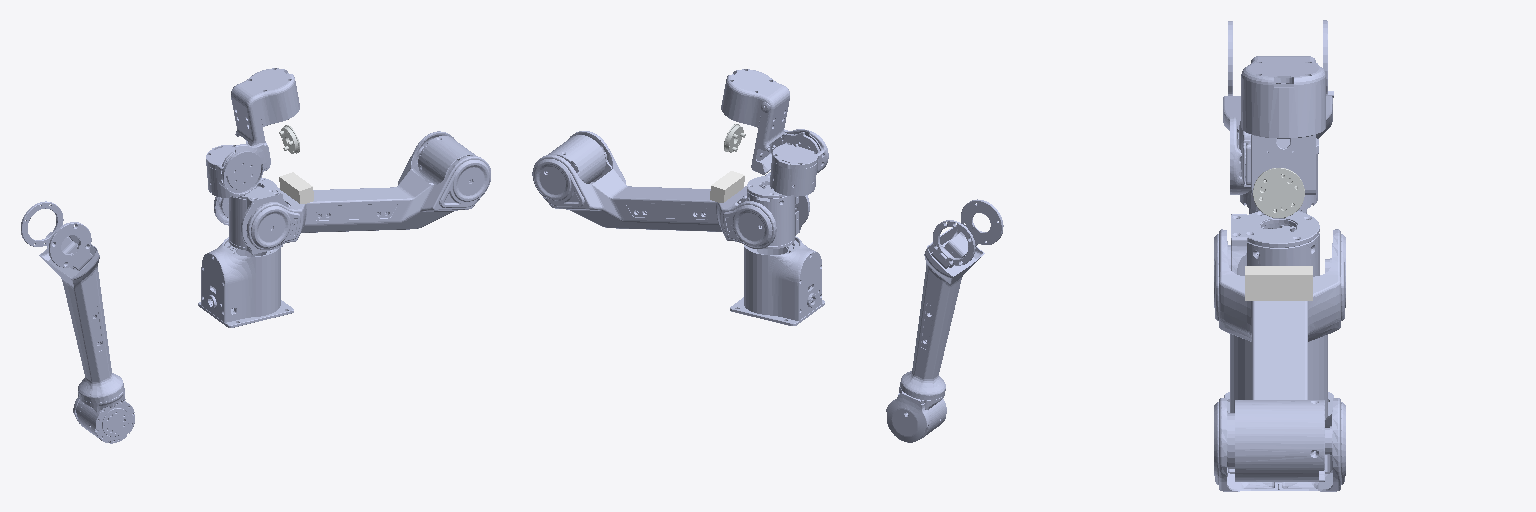
robot.urdf — piper:
<?xml version="1.0" encoding="utf-8"?>
<!-- This URDF was automatically created by SolidWorks to URDF Exporter! Originally created by Stephen Brawner (brawner@gmail.com) 
     Commit Version: 1.6.0-4-g7f85cfe  Build Version: 1.6.7995.38578
     For more information, please see http://wiki.ros.org/sw_urdf_exporter -->
<robot
  name="piper">
  <link
    name="base_link">
    <inertial>
      <origin xyz="-0.00473641164191482 2.56829134630247E-05 0.041451518036016" rpy="0 0 0" />
      <mass value="1.02" />
      <inertia ixx="0.00267433" ixy="-0.00000073" ixz="-0.00017389" iyy="0.00282612" iyz="0.0000004" izz="0.00089624" />
    </inertial>
    <visual>
      <origin
        xyz="0 0 0"
        rpy="0 0 0" />
      <geometry>
        <mesh
          filename="package://piper_description/meshes/base_link.STL" />
      </geometry>
      <material
        name="">
        <color
          rgba="0.792156862745098 0.819607843137255 0.933333333333333 1" />
      </material>
    </visual>
    <collision>
      <origin
        xyz="0 0 0"
        rpy="0 0 0" />
      <geometry>
        <mesh
          filename="package://piper_description/meshes/base_link.STL" />
      </geometry>
    </collision>
  </link>
  <link
    name="link1">
    <inertial>
      <origin xyz="0.00032 -0.00041 -0.00348" rpy="0 0 0" />
      <mass value="0.71" />
      <inertia ixx="0.00050027" ixy="0.00000078" ixz="0.00000626" iyy="0.00040879" iyz="0.00000462" izz="0.00045802" />
    </inertial>
    <visual>
      <origin
        xyz="0 0 0"
        rpy="0 0 0" />
      <geometry>
        <mesh
          filename="package://piper_description/meshes/link1.STL" />
      </geometry>
      <material
        name="">
        <color
          rgba="0.792156862745098 0.819607843137255 0.933333333333333 1" />
      </material>
    </visual>
    <collision>
      <origin
        xyz="0 0 0"
        rpy="0 0 0" />
      <geometry>
        <mesh
          filename="package://piper_description/meshes/link1.STL" />
      </geometry>
    </collision>
  </link>
  <joint
    name="joint1"
    type="revolute">
    <origin
      xyz="0 0 0.123"
      rpy="0 0 0" />
    <parent
      link="base_link" />
    <child
      link="link1" />
    <axis
      xyz="0 0 1" />
    <limit
      lower="-2.618"
      upper="2.618"
      effort="100"
      velocity="5" />
  </joint>
  <link
    name="link2">
    <inertial>
      <origin xyz="0.21852 -0.00861 0.00126" rpy="0 0 0" />
      <mass value="1.16" />
      <inertia ixx="0.00111915" ixy="0.00182916" ixz="0.00019233" iyy="0.06763251" iyz="0.00000767" izz="0.067559" />
    </inertial>
    <visual>
      <origin
        xyz="0 0 0"
        rpy="0 0 0" />
      <geometry>
        <mesh
          filename="package://piper_description/meshes/link2.STL" />
      </geometry>
      <material
        name="">
        <color
          rgba="0.792156862745098 0.819607843137255 0.933333333333333 1" />
      </material>
    </visual>
    <collision>
      <origin
        xyz="0 0 0"
        rpy="0 0 0" />
      <geometry>
        <mesh
          filename="package://piper_description/meshes/link2.STL" />
      </geometry>
    </collision>
  </link>
  <joint
    name="joint2"
    type="revolute">
    <origin
      xyz="0 0 0"
      rpy="1.5708 -0.1359 -3.1416" />
      <!-- rpy="1.5708 -0.10095-0.03490659 -3.1416" /> -->
    <parent
      link="link1" />
    <child
      link="link2" />
    <axis
      xyz="0 0 1" />
    <limit
      lower="0"
      upper="3.14"
      effort="100"
      velocity="5" />
  </joint>
  <link
    name="link3">
    <inertial>
      <origin xyz="-0.01999 -0.14808 -0.00053" rpy="0 0 0" />
      <mass value="0.5" />
      <inertia ixx="0.01347608" ixy="0.00161034" ixz="0.00000066" iyy="0.00046377" iyz="0.00000162" izz="0.01363321" />
    </inertial>
    <visual>
      <origin
        xyz="0 0 0"
        rpy="0 0 0" />
      <geometry>
        <mesh
          filename="package://piper_description/meshes/link3.STL" />
      </geometry>
      <material
        name="">
        <color
          rgba="0.792156862745098 0.819607843137255 0.933333333333333 1" />
      </material>
    </visual>
    <collision>
      <origin
        xyz="0 0 0"
        rpy="0 0 0" />
      <geometry>
        <mesh
          filename="package://piper_description/meshes/link3.STL" />
      </geometry>
    </collision>
  </link>
  <joint
    name="joint3"
    type="revolute">
    <origin
      xyz="0.28503 0 0"
      rpy="0 0 -1.7939" />
      <!-- rpy="0 0 -1.759-0.03490659" /> -->
    <parent
      link="link2" />
    <child
      link="link3" />
    <axis
      xyz="0 0 1" />
    <limit
      lower="-2.967"
      upper="0"
      effort="100"
      velocity="5" />
  </joint>
  <link
    name="link4">
    <inertial>
      <origin xyz="0.00013 -0.00076 -0.00394" rpy="0 0 0" />
      <mass value="0.38" />
      <inertia ixx="0.00017844" ixy="0.00000062" ixz="0.00000067" iyy="0.00018914" iyz="0.00000408" izz="0.00014613" />
    </inertial>
    <visual>
      <origin
        xyz="0 0 0"
        rpy="0 0 0" />
      <geometry>
        <mesh
          filename="package://piper_description/meshes/link4.STL" />
      </geometry>
      <material
        name="">
        <color
          rgba="0.792156862745098 0.819607843137255 0.933333333333333 1" />
      </material>
    </visual>
    <collision>
      <origin
        xyz="0 0 0"
        rpy="0 0 0" />
      <geometry>
        <mesh
          filename="package://piper_description/meshes/link4.STL" />
      </geometry>
    </collision>
  </link>
  <joint
    name="joint4"
    type="revolute">
    <origin
      xyz="-0.021984 -0.25075 0"
      rpy="1.5708 0 0" />
    <parent
      link="link3" />
    <child
      link="link4" />
    <axis
      xyz="0 0 1" />
    <limit
      lower="-1.745"
      upper="1.745"
      effort="100"
      velocity="5" />
  </joint>
  <link
    name="link5">
    <inertial>
      <origin xyz="0.00018 -0.06104 -0.00227" rpy="0 0 0" />
      <mass value="0.383" />
      <inertia ixx="0.00172318" ixy="0.00000259" ixz="0.00000010" iyy="0.00017936" iyz="0.00000990" izz="0.00171172" />
    </inertial>
    <visual>
      <origin
        xyz="0 0 0"
        rpy="0 0 0" />
      <geometry>
        <mesh
          filename="package://piper_description/meshes/link5.STL" />
      </geometry>
      <material
        name="">
        <color
          rgba="0.792156862745098 0.819607843137255 0.933333333333333 1" />
      </material>
    </visual>
    <collision>
      <origin
        xyz="0 0 0"
        rpy="0 0 0" />
      <geometry>
        <mesh
          filename="package://piper_description/meshes/link5.STL" />
      </geometry>
    </collision>
  </link>
  <joint
    name="joint5"
    type="revolute">
    <origin
      xyz="0 0 0"
      rpy="-1.5708 0 0" />
    <parent
      link="link4" />
    <child
      link="link5" />
    <axis
      xyz="0 0 1" />
    <limit
      lower="-1.22"
      upper="1.22"
      effort="100"
      velocity="5" />
  </joint>
  <link
    name="link6">
    <inertial>
      <origin xyz="-0.00003 0.00006 0.04618" rpy="0 0 0" />
      <mass value="0.007" />
      <inertia ixx="0.00152112" ixy="0.00000202" ixz="0.00000261" iyy="0.00138626" iyz="0.00000002" izz="0.00031152" />
    </inertial>
    <visual>
      <origin
        xyz="0 0 0"
        rpy="0 0 0" />
      <geometry>
        <mesh
          filename="package://piper_description/meshes/link6.STL" />
      </geometry>
      <material
        name="">
        <color
          rgba="0.898039215686275 0.917647058823529 0.929411764705882 1" />
      </material>
    </visual>
    <collision>
      <origin
        xyz="0 0 0"
        rpy="0 0 0" />
      <geometry>
        <mesh
          filename="package://piper_description/meshes/link6.STL" />
      </geometry>
    </collision>
  </link>
  <joint
    name="joint6"
    type="revolute">
    <origin
      xyz="8.8259E-05 -0.091 0"
      rpy="1.5708 0 0" />
    <parent
      link="link5" />
    <child
      link="link6" />
    <axis
      xyz="0 0 1" />
    <limit
      lower="-2.0944"
      upper="2.0944"
      effort="100"
      velocity="3" />
  </joint>
  <link
    name="gripper_base">
    <inertial>
      <origin
        xyz="-0.000183807162235591 8.05033155577911E-05 0.0321436689908876"
        rpy="0 0 0" />
      <mass
        value="0.45" />
      <inertia
        ixx="0.00092934"
        ixy="0.00000034"
        ixz="-0.00000738"
        iyy="0.00071447"
        iyz="0.00000005"
        izz="0.00039442" />
    </inertial>
    <visual>
      <origin
        xyz="0 0 0"
        rpy="0 0 0" />
      <geometry>
        <mesh
          filename="package://piper_description/meshes/gripper_base.STL" />
      </geometry>
      <material
        name="">
        <color
          rgba="0.792156862745098 0.819607843137255 0.933333333333333 1" />
      </material>
    </visual>
    <collision>
      <origin
        xyz="0 0 0"
        rpy="0 0 0" />
      <geometry>
        <mesh
          filename="package://piper_description/meshes/gripper_base.STL" />
      </geometry>
    </collision>
  </link> 
  <joint
    name="joint6_to_gripper_base"
    type="fixed">
    <origin
      xyz="0 0 0"
      rpy="0 0 0" />
    <parent
      link="link6" />
    <child
      link="gripper_base" />
  </joint>
  <link
    name="link7">
    <inertial>
      <origin
        xyz="0.00065123185041968 -0.0491929869131989 0.00972258769184025"
        rpy="0 0 0" />
      <mass
        value="0.025" />
      <inertia
        ixx="0.00007371"
        ixy="-0.00000113"
        ixz="0.00000021"
        iyy="0.00000781"
        iyz="-0.00001372"
        izz="0.0000747" />
    </inertial>
    <visual>
      <origin
        xyz="0 0 0"
        rpy="0 0 0" />
      <geometry>
        <mesh
          filename="package://piper_description/meshes/link7.STL" />
      </geometry>
      <material
        name="">
        <color
          rgba="0.792156862745098 0.819607843137255 0.933333333333333 1" />
      </material>
    </visual>
    <collision>
      <origin
        xyz="0 0 0"
        rpy="0 0 0" />
      <geometry>
        <mesh
          filename="package://piper_description/meshes/link7.STL" />
      </geometry>
    </collision>
  </link>
  <joint
    name="joint7"
    type="prismatic">
    <origin
      xyz="0 0 0.1358"
      rpy="1.5708 0 0" />
    <parent
      link="gripper_base" />
    <child
      link="link7" />
    <axis
      xyz="0 0 1" />
    <limit
      lower="0"
      upper="0.035"
      effort="10"
      velocity="1" />
  </joint>
  <link
    name="link8">
    <inertial>
      <origin
        xyz="0.000651231850419722 -0.0491929869131991 0.00972258769184024"
        rpy="0 0 0" />
      <mass
        value="0.025" />
      <inertia
        ixx="0.00007371"
        ixy="-0.00000113"
        ixz="0.00000021"
        iyy="0.00000781"
        iyz="-0.00001372"
        izz="0.0000747" />
    </inertial>
    <visual>
      <origin
        xyz="0 0 0"
        rpy="0 0 0" />
      <geometry>
        <mesh
          filename="package://piper_description/meshes/link8.STL" />
      </geometry>
      <material
        name="">
        <color
          rgba="0.792156862745098 0.819607843137255 0.933333333333333 1" />
      </material>
    </visual>
    <collision>
      <origin
        xyz="0 0 0"
        rpy="0 0 0" />
      <geometry>
        <mesh
          filename="package://piper_description/meshes/link8.STL" />
      </geometry>
    </collision>
  </link>
  <joint
    name="joint8"
    type="prismatic">
    <origin
      xyz="0 0 0.1358"
      rpy="1.5708 0 -3.1416" />
    <parent
      link="gripper_base" />
    <child
      link="link8" />
    <axis
      xyz="0 0 -1" />
    <limit
      lower="-0.035"
      upper="0"
      effort="10"
      velocity="1" />
  </joint>

  <link
    name="camera_link">
    <inertial>
      <origin
        xyz="0.0 0.0 0.0"
        rpy="0 0 0" />
      <mass
        value="0.0067926" />
      <inertia
        ixx="3.7811E-05"
        ixy="2.2861E-18"
        ixz="2.2446E-19"
        iyy="9.4061E-05"
        iyz="6.1172E-06"
        izz="0.00012345" />
    </inertial>
    <visual>
      <origin
        xyz="0 0 0"
        rpy="0 0 0" />
      <geometry>
          <box size="0.02 0.05 0.02"/>
      </geometry>
      <material
        name="">
        <color
          rgba="1 1 1 1" />
      </material>
    </visual>
    <collision>
      <origin
        xyz="0 0 0"
        rpy="0 1.57 0" />
      <geometry>
        <box size="0.001 0.001 0.001"/>
      </geometry>
    </collision>
  </link>

  <joint
    name="hand_camera_joint"
    type="fixed">
    <origin
      xyz="0.07 0.0 0.0"
      rpy="0.0 -1.57 0.0" />
    <parent
      link="link6" />
    <child
      link="camera_link" />
    <axis
      xyz="0 0 0" />
  </joint>

</robot>

--- Render facts (derived) ---
3 views of the same robot in one strip: view 1: azimuth 30°, elevation 25°; view 2: azimuth 150°, elevation 25°; view 3: azimuth 270°, elevation 25° (orthographic).
Robot: piper — 11 links, 10 joints (6 revolute, 2 prismatic, 2 fixed); root link base_link; default pose: every joint at zero.
Visible links, largest first — view 1: link2, link3, base_link, link4, link5, link1, camera_link; view 2: link2, link3, base_link, link4, link5, link1, camera_link; view 3: link2, link4, link1, base_link, camera_link, link6, link3, link5.
Link boxes in pixels (x1,y1,x2,y2): link2: (214,131,490,249); link3: (21,201,134,443); base_link: (198,237,293,327); link4: (222,68,299,171); link5: (206,145,263,197); link1: (229,178,288,254); camera_link: (279,172,313,203); link2: (532,131,809,248); link3: (886,199,1003,442); base_link: (730,236,824,325); link4: (721,69,821,174); link5: (770,131,828,196); link1: (747,172,809,248); camera_link: (710,171,744,202); link2: (1214,229,1345,491); link4: (1239,56,1325,194); link1: (1231,211,1319,276); base_link: (1224,334,1333,417); camera_link: (1245,266,1312,300); link6: (1253,168,1304,217); link3: (1223,20,1333,213); link5: (1230,117,1318,210).
Bounding box of the posed robot: 0.6289 × 0.097 × 0.4352 m (x, y, z).
Meshes: 10 distinct files referenced, 7 mesh visuals loaded (7 binary STL); not drawn: 3 (reference not matched to a file when rendering).
